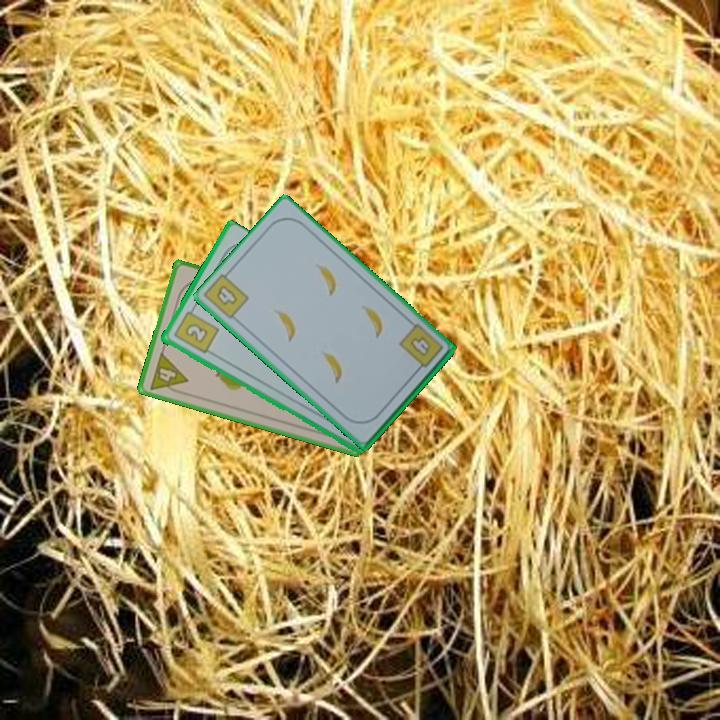2b: (170, 303, 221, 357)
4b: (395, 320, 446, 376), (212, 281, 240, 308)
4p: (146, 349, 191, 398)
